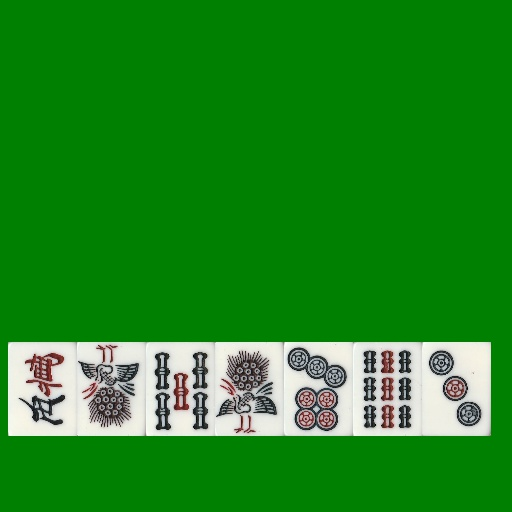1s: (77, 342, 146, 436), (215, 342, 284, 436)
3p: (422, 342, 491, 436)
5m: (8, 342, 77, 436)
5s: (146, 342, 215, 436)
7p: (284, 342, 353, 436)
9s: (353, 342, 422, 436)
